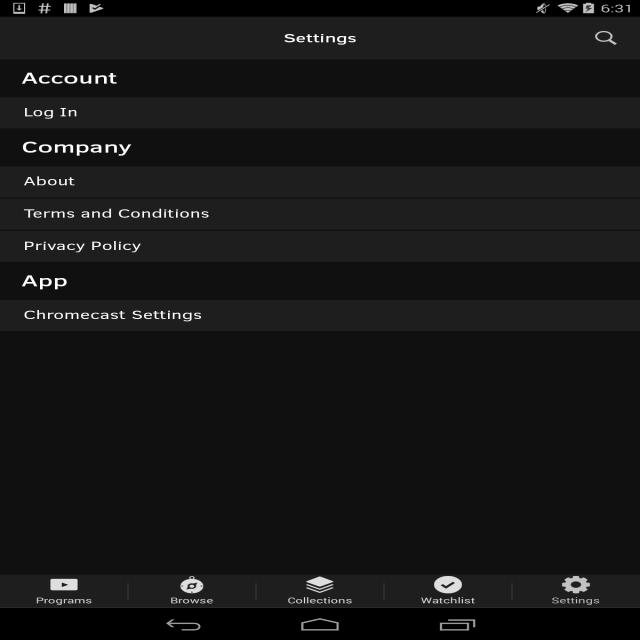ImageView: (580, 22, 632, 54), (48, 574, 80, 594), (176, 574, 208, 594), (304, 574, 336, 594), (432, 574, 464, 594), (560, 574, 592, 594)
TextView: (21, 66, 619, 88), (21, 136, 619, 158), (21, 270, 619, 292), (24, 205, 616, 222), (24, 104, 616, 120), (24, 173, 616, 189), (24, 238, 616, 254), (24, 307, 616, 323), (284, 17, 357, 59), (288, 594, 352, 606), (36, 594, 92, 606), (421, 594, 475, 606), (551, 594, 600, 606), (170, 594, 213, 606)
